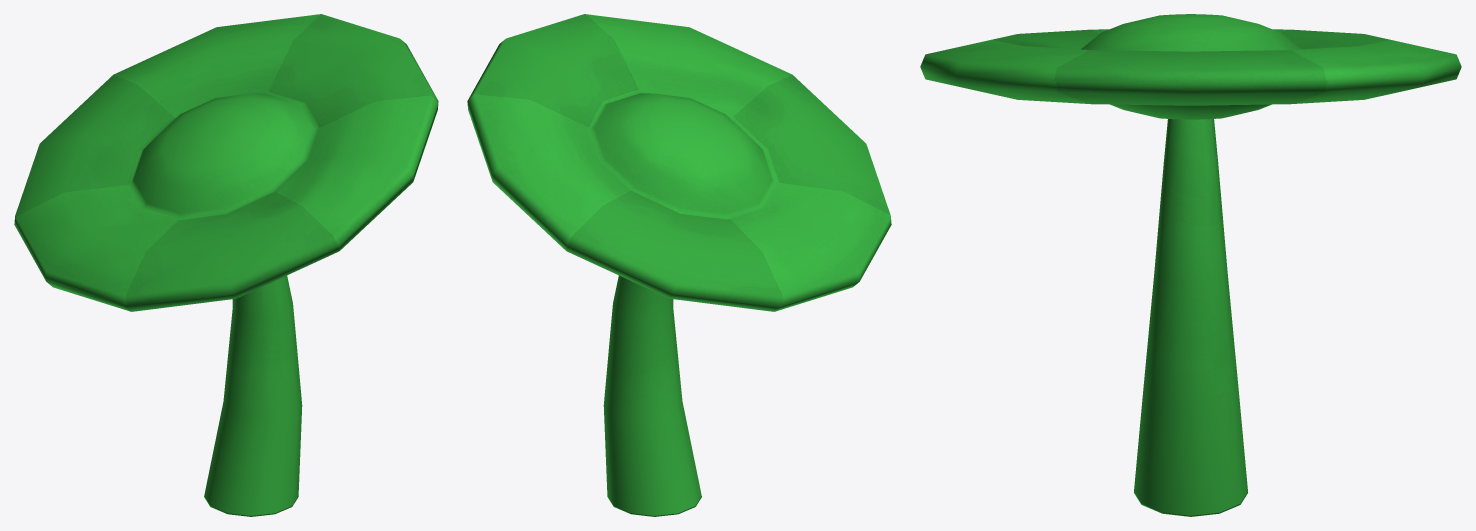
File: UfoTree.fbx
3 renders of one model, left to right at view 1: azimuth 30°, elevation 25°; view 2: azimuth 150°, elevation 25°; view 3: azimuth 270°, elevation 25°, orthographic. The views are drawn at different scales.
Parts seen in each view (by area): view 1: ufoTree; view 2: ufoTree; view 3: ufoTree.
Boxes of the visible parts, <box> form: ufoTree: <box>14,14,438,516</box>; ufoTree: <box>467,14,891,516</box>; ufoTree: <box>920,14,1461,516</box>.
Bounding box in the file's own units: 55.59 × 62.19 × 59.79.
